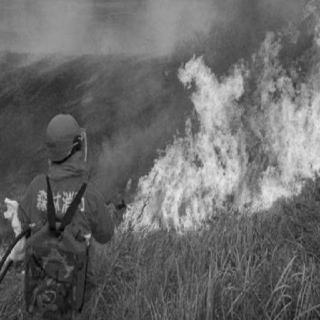Fire: (110, 2, 318, 234)
Smoke: (89, 3, 143, 41)
other: (13, 109, 115, 313)
